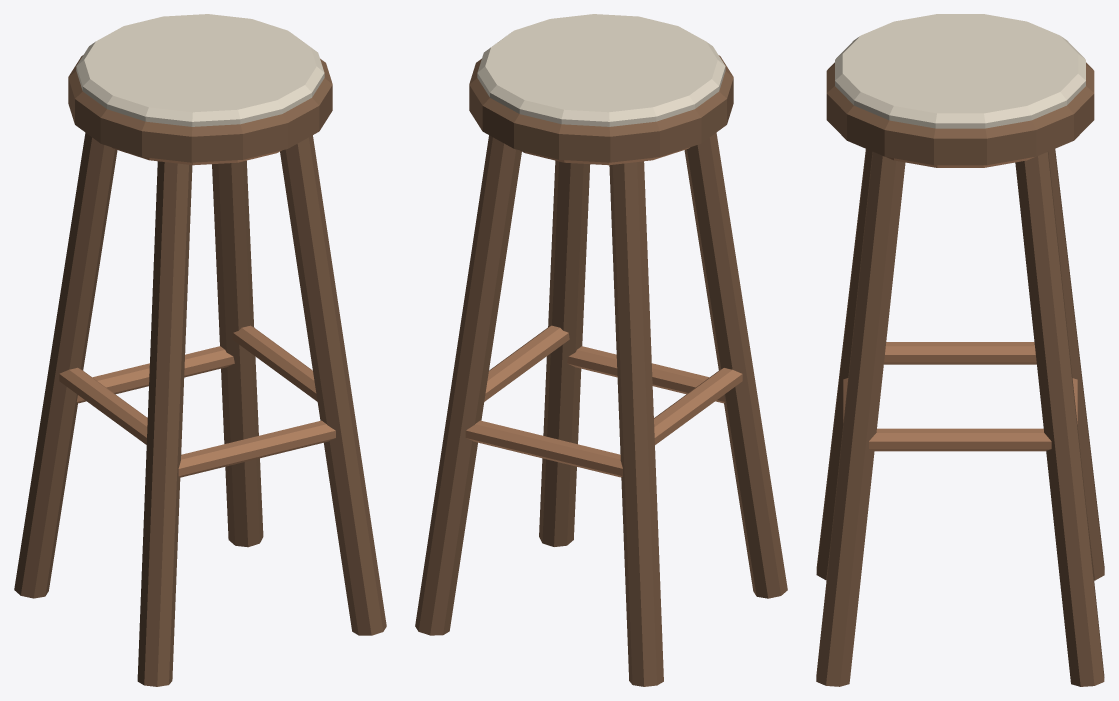
Rendered from Prop_Kitchen_Bar_Stool.obj.
3 renders of one model, left to right at view 1: azimuth 30°, elevation 25°; view 2: azimuth 150°, elevation 25°; view 3: azimuth 270°, elevation 25°, orthographic. The views are drawn at different scales.
Visible parts, largest first — view 1: object1; view 2: object1; view 3: object1.
Boxes of the visible parts, x1,y1,x2,y2 form: object1: [14, 14, 386, 686]; object1: [415, 14, 787, 686]; object1: [816, 14, 1104, 686].
Bounding box in the file's own units: 0.4309 × 0.9303 × 0.4309.
